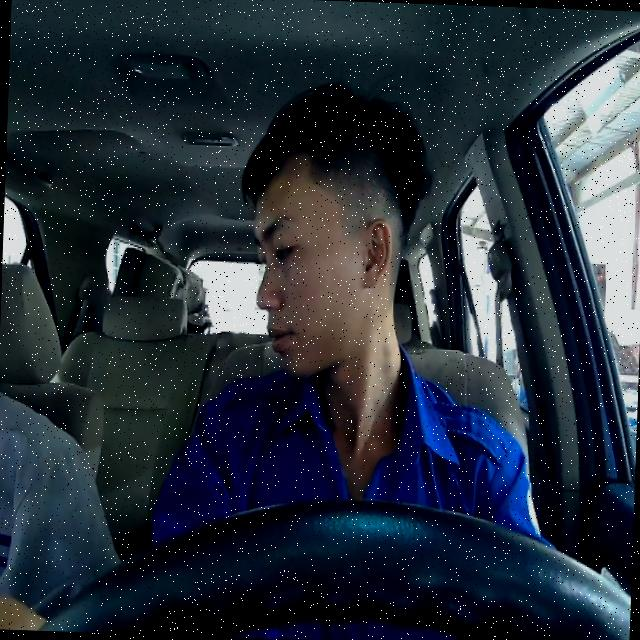seeing_left: (244, 130, 398, 386)
